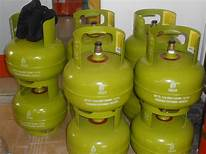gas_ijo: (63, 26, 133, 117), (135, 26, 202, 109), (5, 12, 66, 85), (131, 103, 195, 154), (65, 105, 131, 154), (128, 9, 180, 70), (11, 83, 66, 137), (68, 9, 117, 56)
